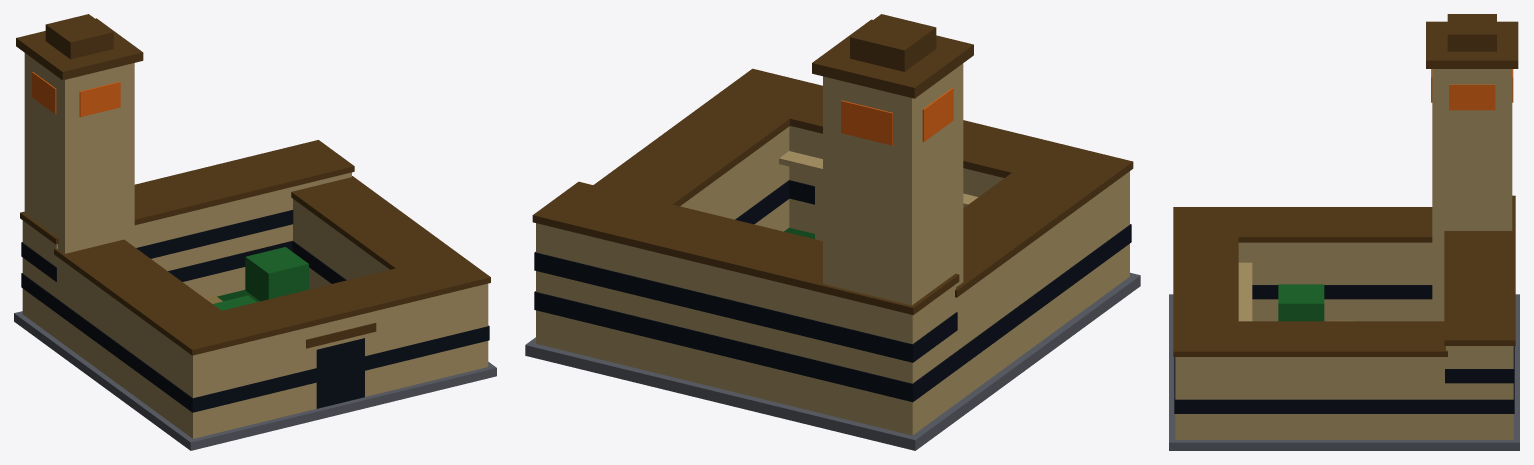
File: campus.obj
The picture shows the model from 3 angles, left to right: view 1: azimuth 30°, elevation 25°; view 2: azimuth 150°, elevation 25°; view 3: azimuth 270°, elevation 25°; orthographic projection. The views are drawn at different scales.
Visible parts, largest first — view 1: range-caps, range-front, campanile, range-glazing, range-back, range-west, terrace, campanile-cap, range-east, tree-canopies, gateway, belfry (+1 smaller); view 2: range-caps, range-back, campanile, range-glazing, range-west, terrace, campanile-cap, range-front, range-east, belfry, colonnade-cap; view 3: range-caps, range-east, campanile, range-west, range-glazing, terrace, campanile-cap, range-back, range-front, tree-canopies, belfry, colonnade-cap.
Boxes of the visible parts, x1,y1,x2,y2 form: range-caps: (20,140,490,355); range-front: (162,283,488,438); campanile: (24,53,134,253); range-glazing: (21,210,489,412); range-back: (22,172,351,338); range-west: (56,257,161,415); terrace: (14,311,496,450); campanile-cap: (16,14,143,80); range-east: (293,199,389,289); tree-canopies: (213,247,308,310); gateway: (316,338,364,408); belfry: (32,72,120,117); range-caps: (532,68,1133,315); range-back: (536,223,955,435); campanile: (823,63,963,305); range-glazing: (534,180,1131,402); range-west: (956,200,1090,403); terrace: (525,272,1140,450); campanile-cap: (812,14,973,98); range-front: (789,126,1129,305); range-east: (680,127,789,231); belfry: (841,88,953,145); colonnade-cap: (779,151,978,207); range-caps: (1173,195,1515,356); range-east: (1236,357,1445,439); campanile: (1432,69,1512,321); range-west: (1238,242,1432,321); range-glazing: (1174,285,1514,413); terrace: (1169,294,1519,450); campanile-cap: (1426,14,1518,68); range-back: (1446,346,1513,439); range-front: (1175,357,1236,439); tree-canopies: (1278,284,1324,321); belfry: (1431,69,1513,110); colonnade-cap: (1238,262,1252,321).
Bounding box in the file's own units: 11.4 × 10.7 × 11.4.
